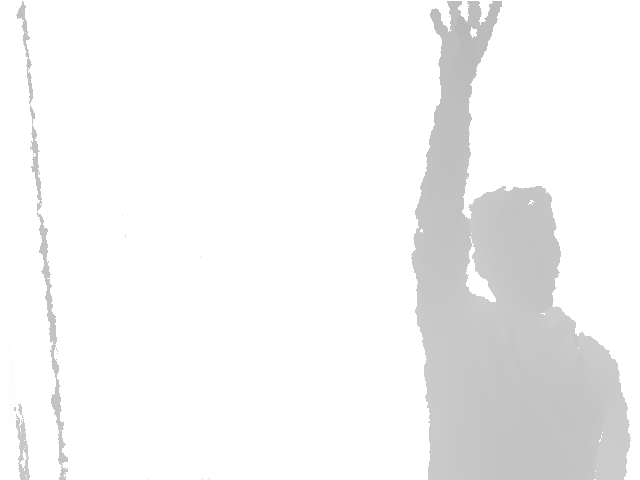hand: (430, 1, 503, 91)
head: (469, 183, 561, 307)
person: (412, 1, 631, 480)
